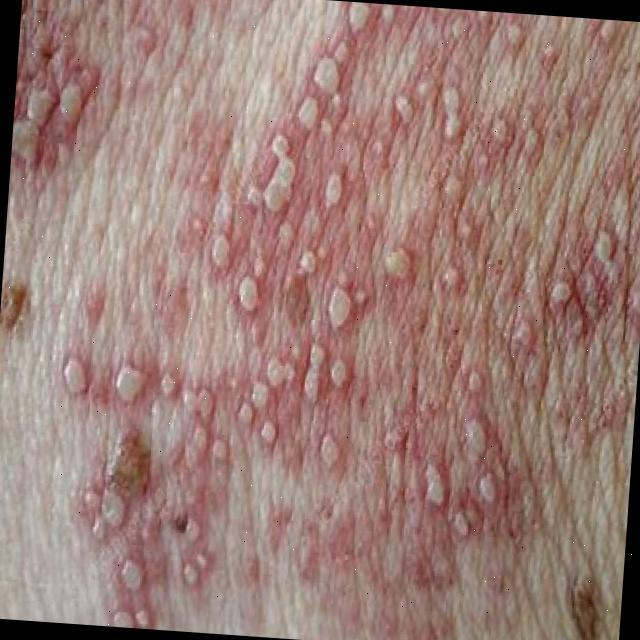Shingles: (14, 3, 623, 640)
